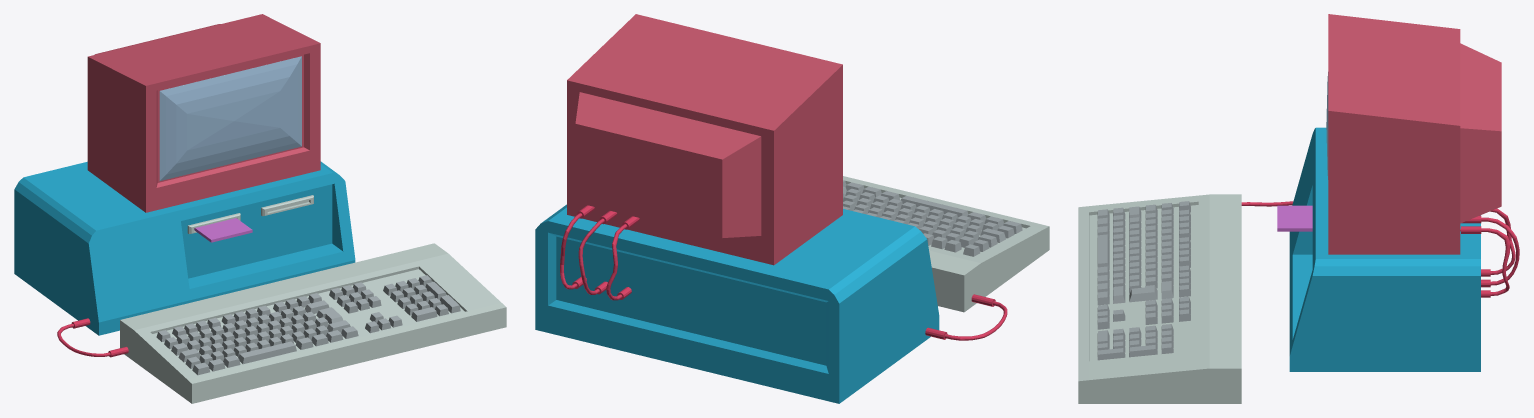
The picture shows the model from 3 angles, left to right: view 1: azimuth 30°, elevation 25°; view 2: azimuth 150°, elevation 25°; view 3: azimuth 270°, elevation 25°; orthographic projection. The views are drawn at different scales.
Visible parts, largest first — view 1: world; view 2: world; view 3: world.
Boxes of the visible parts, <box> form: world: <box>14,14,506,403</box>; world: <box>535,14,1049,403</box>; world: <box>1078,14,1519,403</box>.
Bounding box in the file's own units: 1 × 0.5985 × 0.9526.
